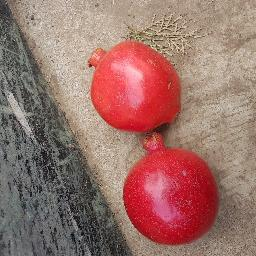Good_pomegranate: (110, 134, 220, 243), (83, 43, 184, 130)
